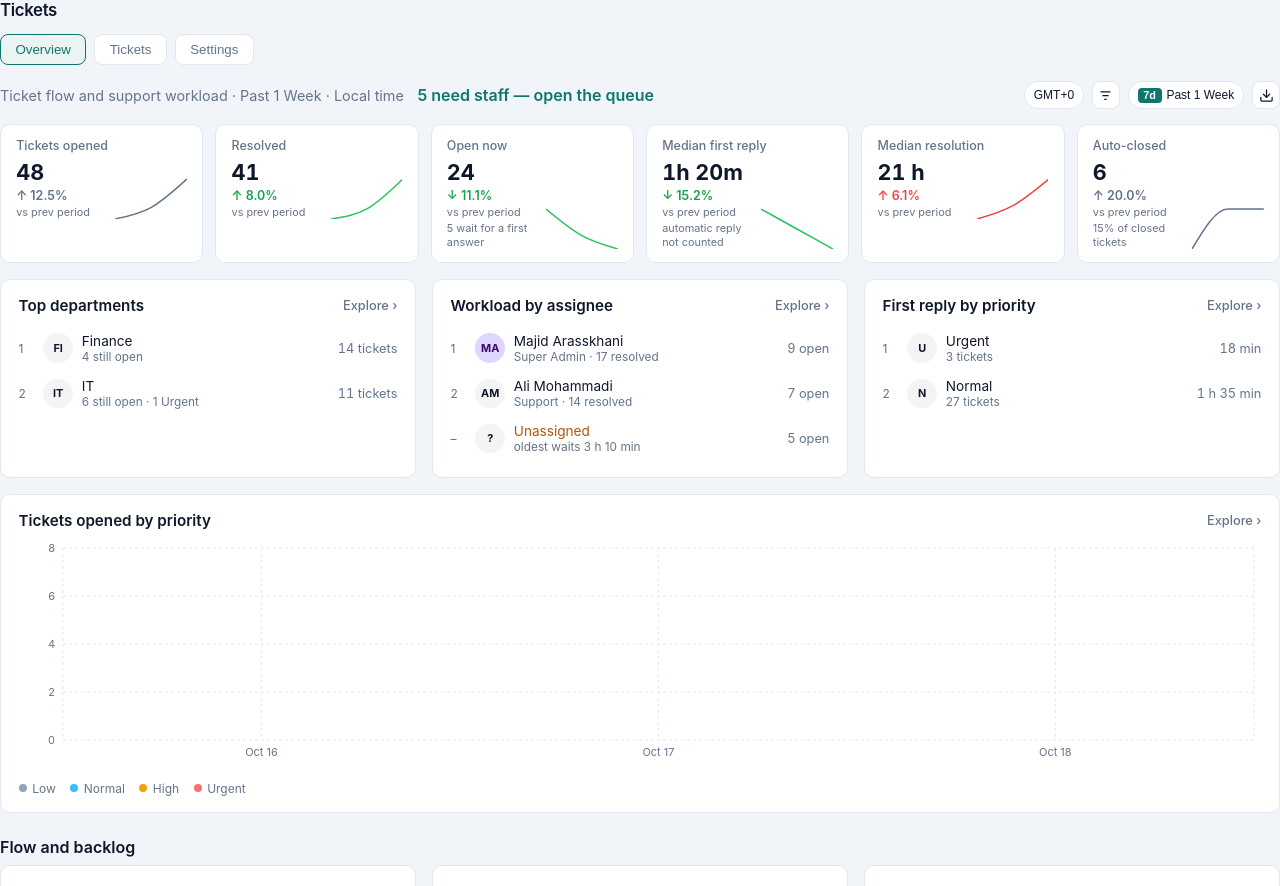
Test: the Overview › sends a filter and the period with the request and keeps them in the address
Click the button named "Filters". click: click(1106, 95)
box: [1092, 81, 1120, 109]
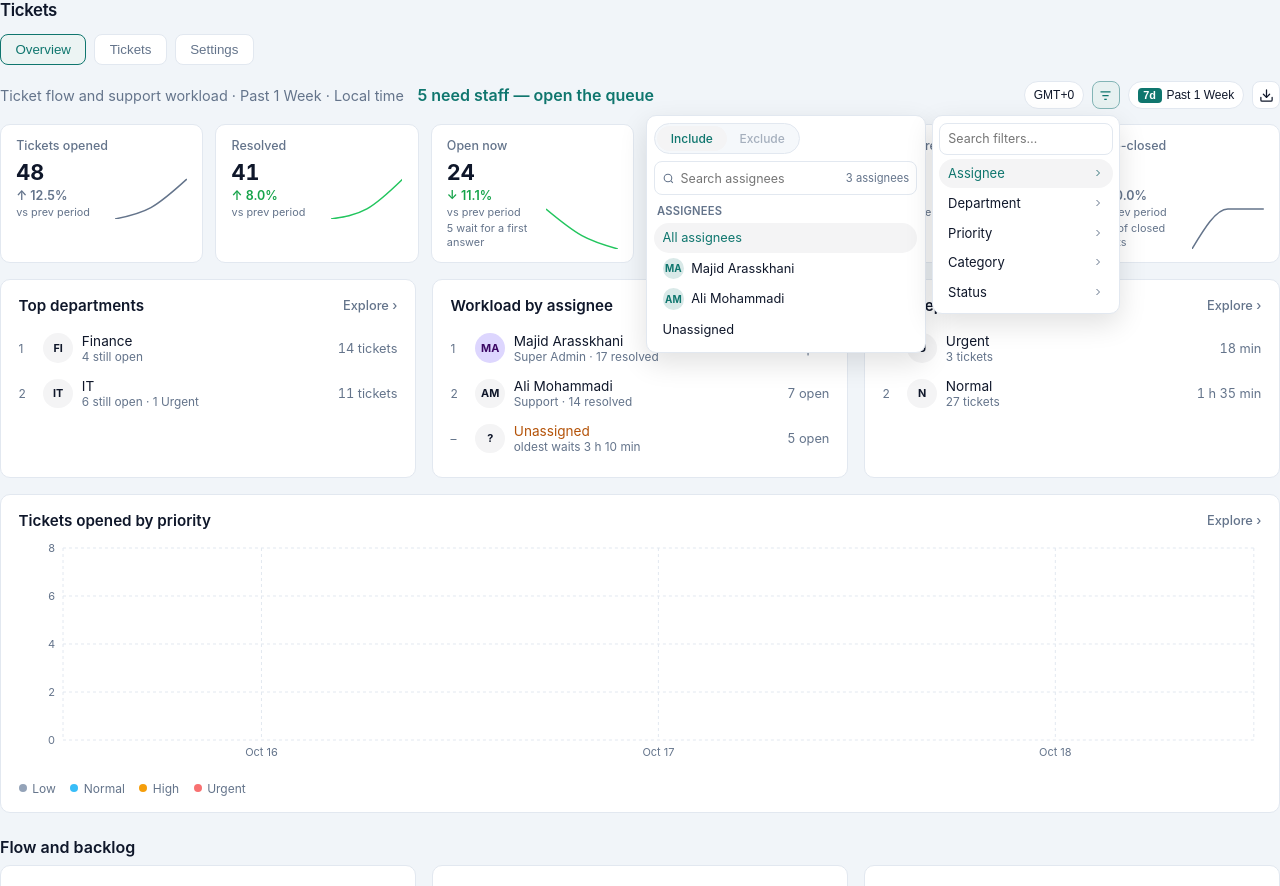
Click the button with class "activity-filter-primary__item" showing "Department". click: click(1026, 203)
box: [939, 188, 1112, 218]
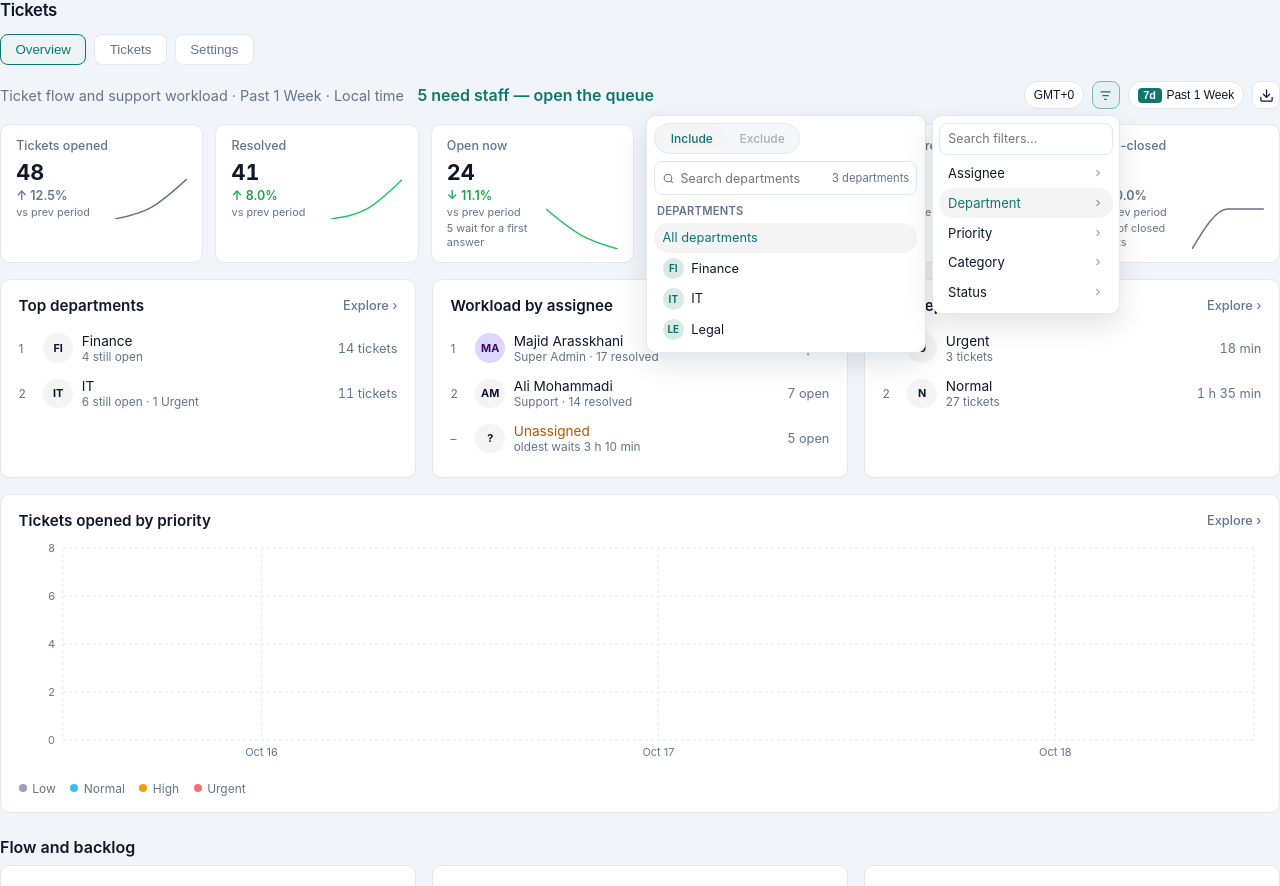
Click the option with class "activity-filter-flyout__item" showing "FI Finance". click: click(715, 268)
box: [654, 253, 917, 284]
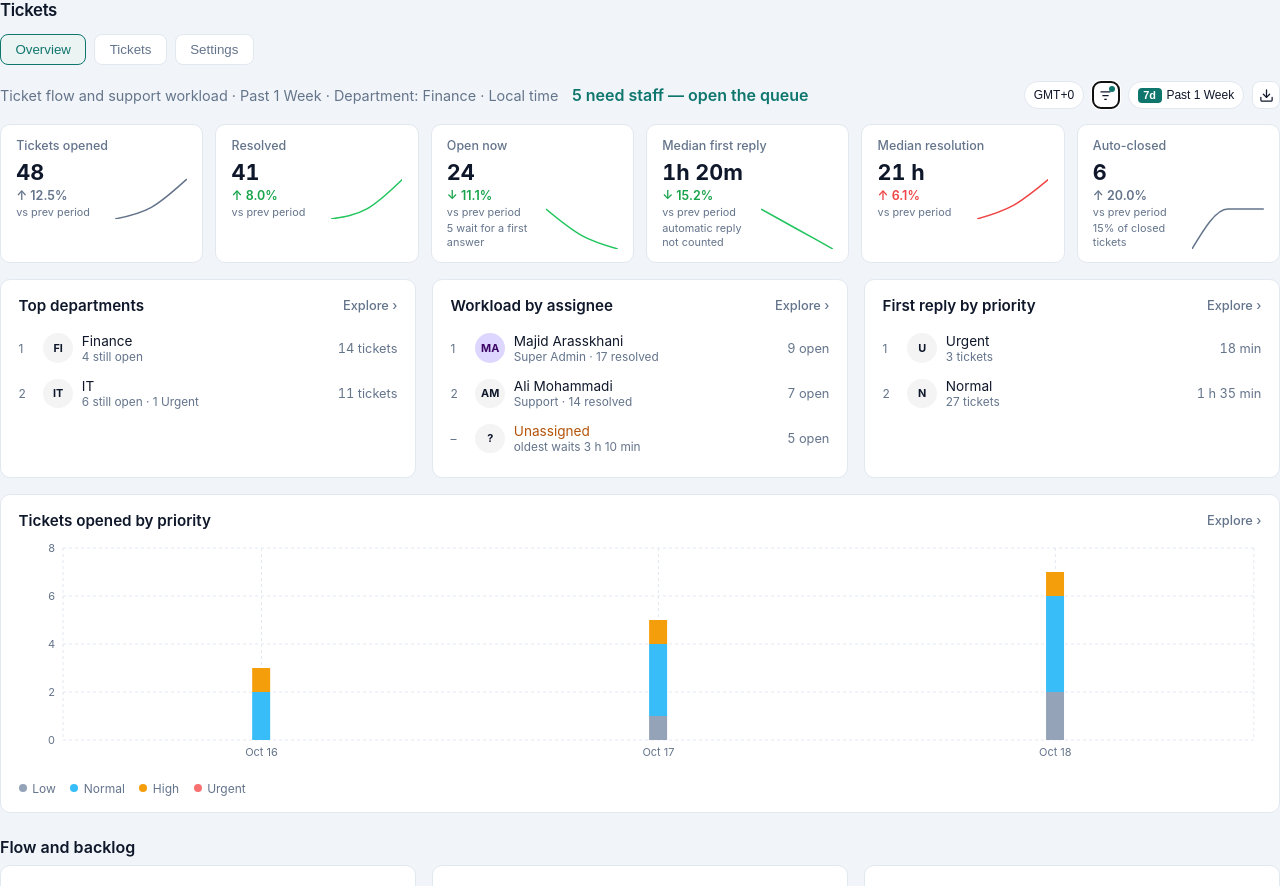
Result: the text with class "activity-subtitle" shows "Department: Finance" at [322, 87, 476, 104]
